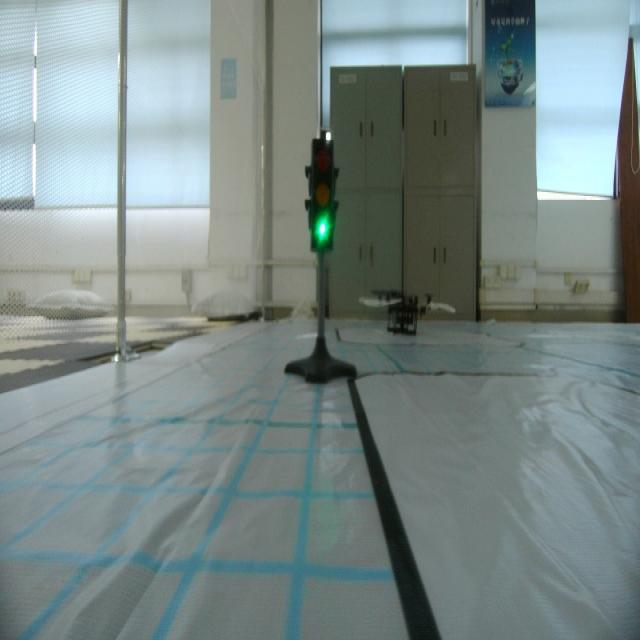green: (306, 136, 341, 256)
